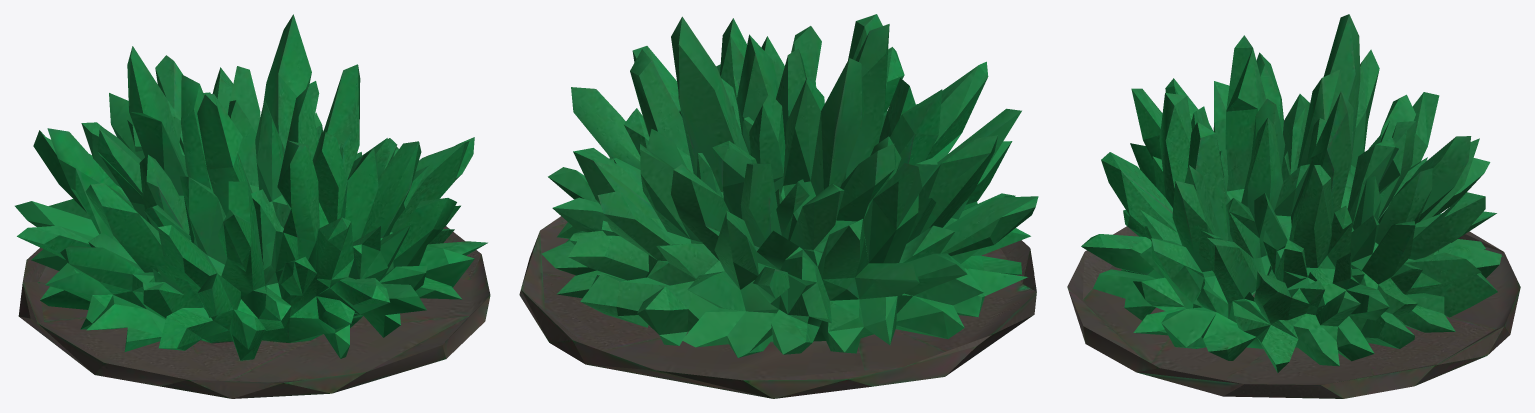
Rendered from lumen_growth.glb.
3 renders of one model, left to right at view 1: azimuth 30°, elevation 25°; view 2: azimuth 150°, elevation 25°; view 3: azimuth 270°, elevation 25°, orthographic. The views are drawn at different scales.
Size of the model in its own units: 1.54 by 0.9001 by 1.5.
Materials: 1 (1 with a texture image).
